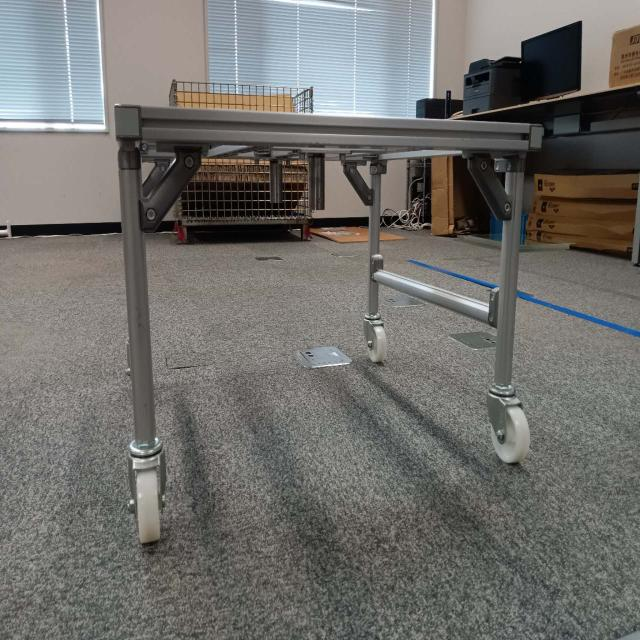door: (120, 107, 530, 230)
